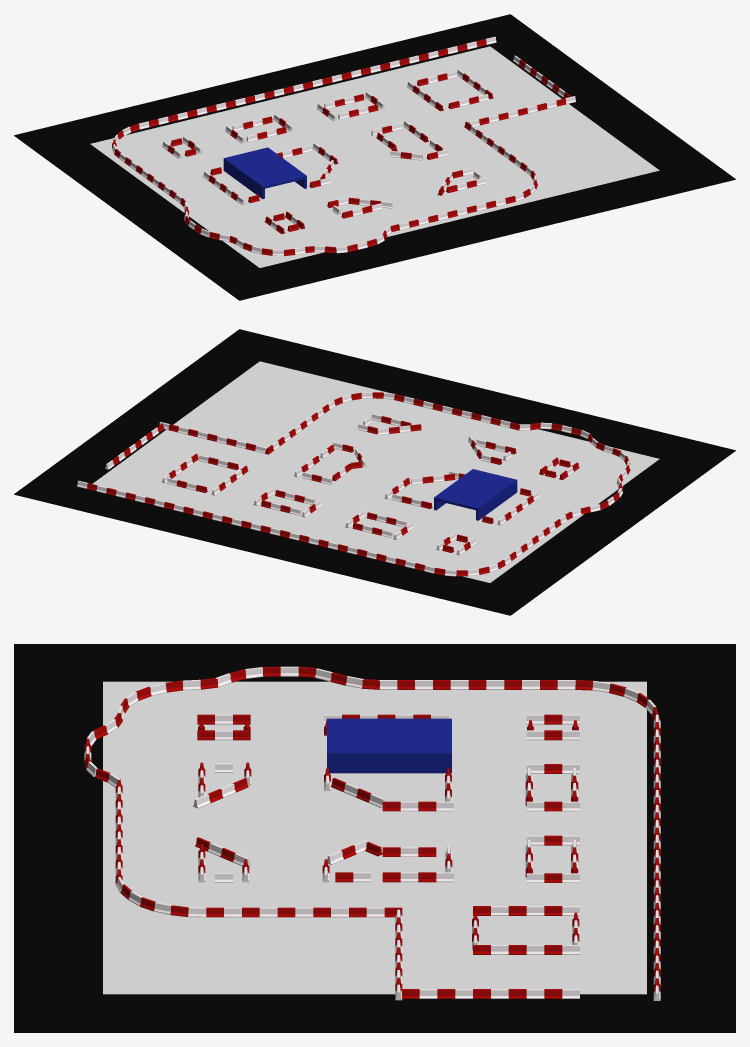
The model's file is ilkelharita.dae.
3 renders of one model, top to bottom at view 1: azimuth 30°, elevation 25°; view 2: azimuth 150°, elevation 25°; view 3: azimuth 270°, elevation 25°, orthographic. The views are drawn at different scales.
Parts seen in each view (by area): view 1: Cube, Cube.002, Cube.004, Cube.003, Cube.001, Cube.145; view 2: Cube, Cube.004, Cube.002, Cube.003, Cube.001, Cube.145; view 3: Cube, Cube.002, Cube.003, Cube.001, Cube.004, Cube.145.
Part boxes in pixels (<box>): Cube: <box>90,46,659,267</box>; Cube.002: <box>260,170,687,288</box>; Cube.004: <box>14,123,287,300</box>; Cube.003: <box>463,14,735,191</box>; Cube.001: <box>62,26,489,143</box>; Cube.145: <box>223,147,306,199</box>; Cube: <box>92,361,659,582</box>; Cube.004: <box>462,438,735,615</box>; Cube.002: <box>260,341,687,458</box>; Cube.003: <box>14,329,286,506</box>; Cube.001: <box>62,489,489,603</box>; Cube.145: <box>434,469,517,520</box>; Cube: <box>103,681,646,994</box>; Cube.002: <box>14,681,102,994</box>; Cube.003: <box>14,994,735,1032</box>; Cube.001: <box>647,681,735,994</box>; Cube.004: <box>14,644,735,681</box>; Cube.145: <box>327,718,451,773</box>.
Size of the model in its own units: 103 by 81 by 2.58.
15 materials, 6 textured.
